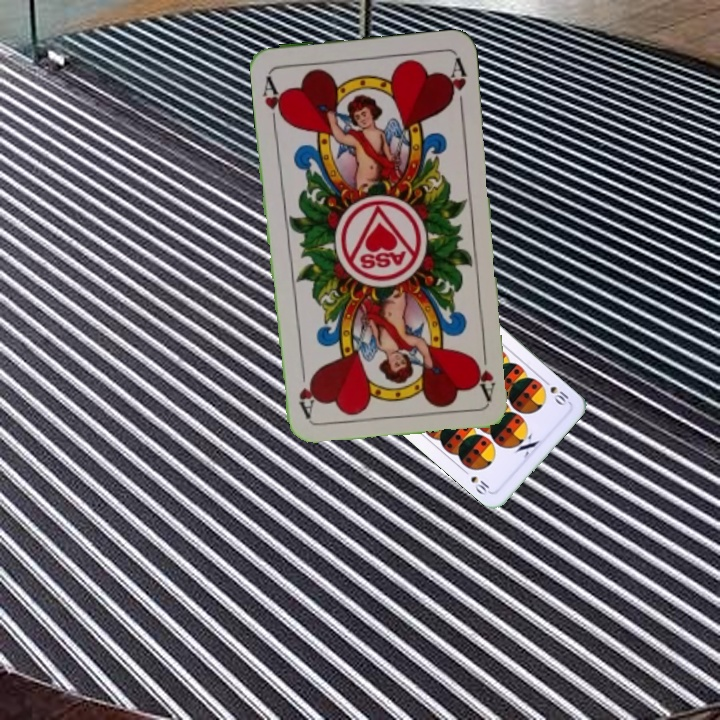HA: (468, 343, 498, 402), (258, 71, 288, 129)
S10: (539, 375, 571, 408)
